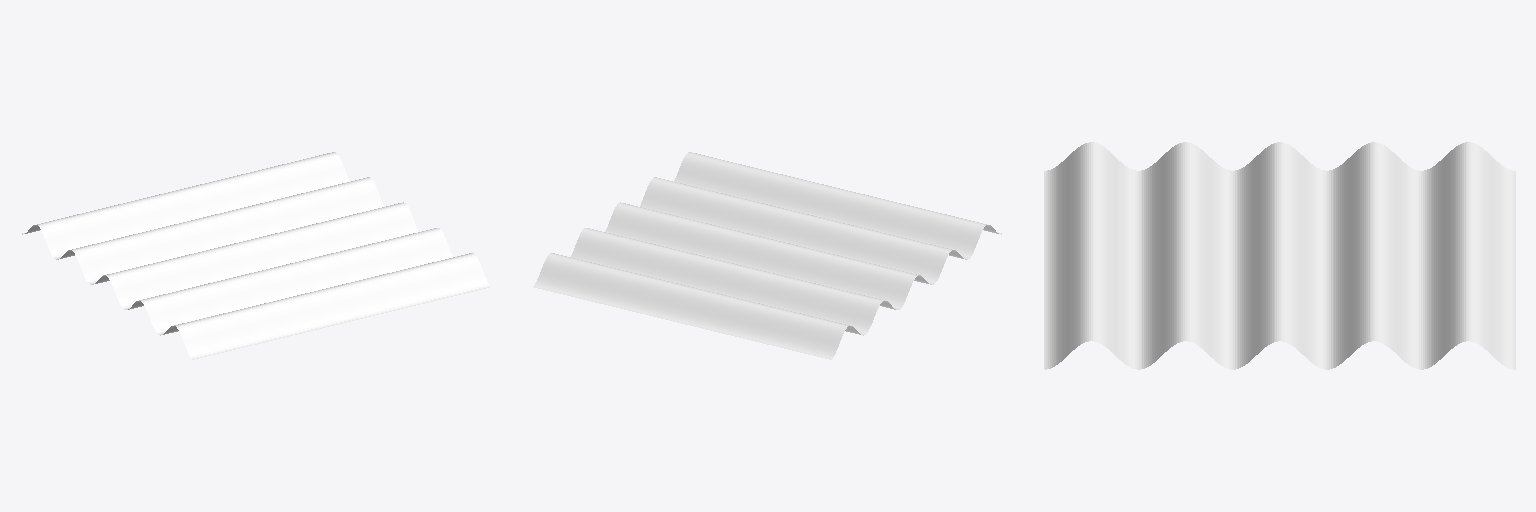
The robot description file, URDF, robot "undulating_a075_w3":
<?xml version="1.0" ?>
<robot name="undulating_a075_w3">
  <link concave="yes" name="undulatingLink">
  <contact>
      <lateral_friction value="2"/>
  </contact>
    <inertial>
      <origin rpy="0 0 0" xyz="0 0 0"/>
       <mass value=".0"/>
       <inertia ixx="0" ixy="0" ixz="0" iyy="0" iyz="0" izz="0"/>
    </inertial>
    <visual>
      <origin rpy="0 0 0" xyz="0 0 0"/>
      <geometry>
		    <mesh filename="package://snakelib_terrain/meshes/undulating_a05_w3.obj" scale="1 1 1"/>
      </geometry>
       <material name="white">
        <color rgba="1 1 1 1"/>
      </material>
    </visual>
    <collision concave="yes">
      <origin rpy="0 0 0" xyz="0 0 0"/>
      <geometry>
	 	    <mesh filename="package://snakelib_terrain/meshes/undulating_a05_w3.obj" scale="1 1 1"/>
      </geometry>
    </collision>
  </link>
</robot>
<!--- Undulating terrain with amplitude 0.5 meters and wavelength of 3 meters -->

--- What the picture shows (computed from the rendered views, not written in the file) ---
The picture shows the robot from 3 angles, left to right: view 1: azimuth 30°, elevation 25°; view 2: azimuth 150°, elevation 25°; view 3: azimuth 270°, elevation 25°; orthographic projection.
Robot: undulating_a075_w3 — 1 links, 0 joints (none); root link undulatingLink; default pose: all joints at 0.
Links seen in each view (by area): view 1: undulatingLink; view 2: undulatingLink; view 3: undulatingLink.
Link boxes in pixels (x1,y1,x2,y2): undulatingLink: [22, 152, 490, 359]; undulatingLink: [533, 152, 1001, 359]; undulatingLink: [1044, 142, 1515, 369].
Bounding box of the posed robot: 15 × 15 × 0.9991 m (x, y, z).
Meshes: 1 distinct files referenced, 1 mesh visuals loaded (1 OBJ).